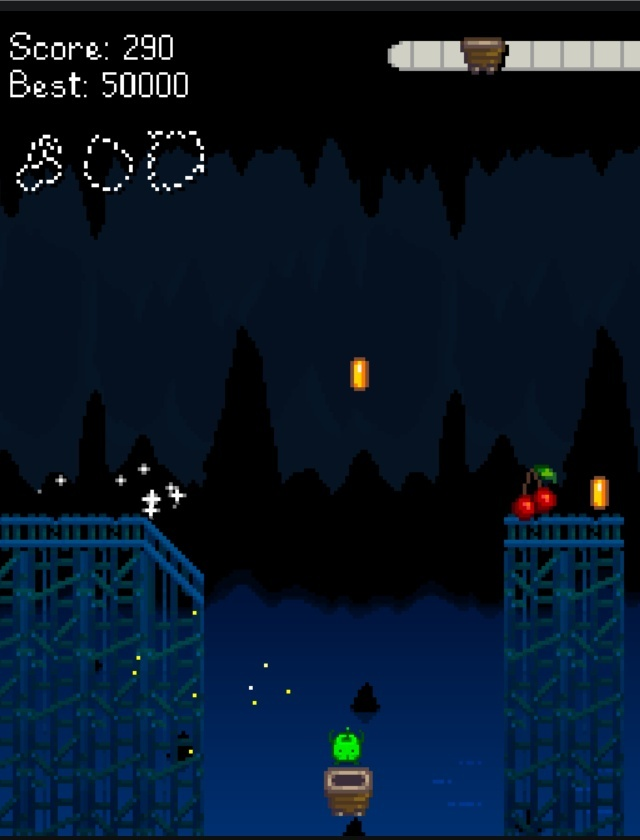cherry: (511, 463, 560, 520)
coins: (350, 357, 368, 392), (590, 477, 608, 510)
tracks: (0, 508, 208, 608), (502, 509, 624, 546)
